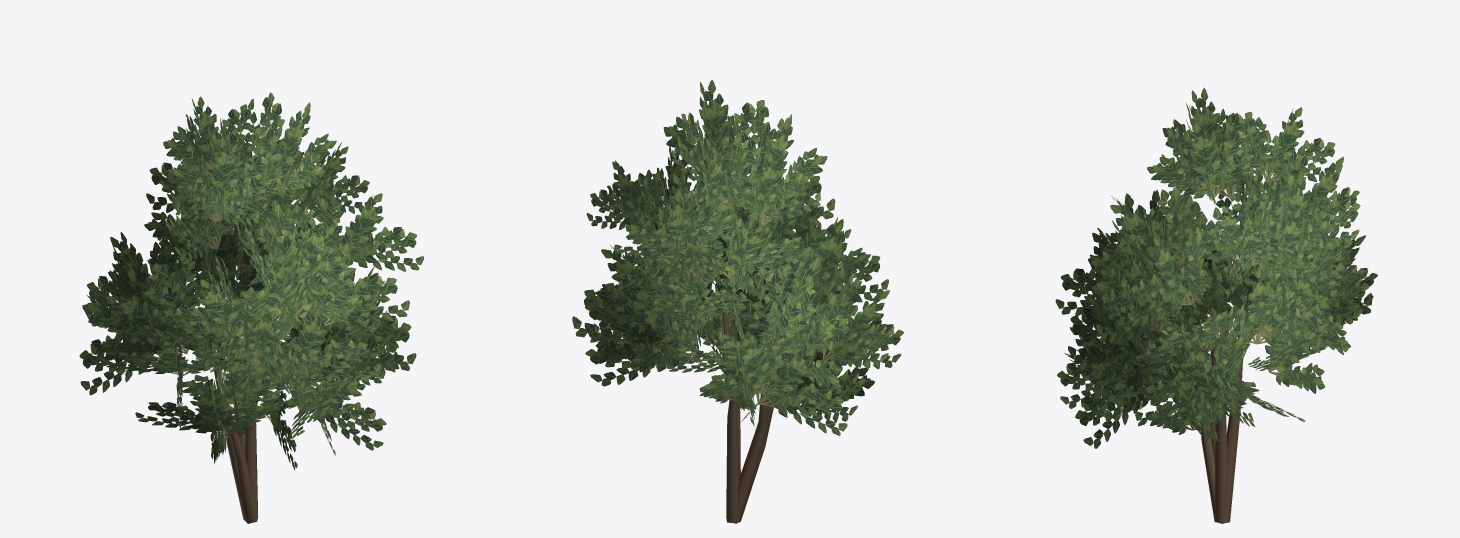
File: SM_Bush_SmallLeaf_Tall.glb
3 renders of one model, left to right at view 1: azimuth 30°, elevation 25°; view 2: azimuth 150°, elevation 25°; view 3: azimuth 270°, elevation 25°, orthographic.
Parts seen in each view (by area): view 1: SM_Bush_SmallLeaf_Tall; view 2: SM_Bush_SmallLeaf_Tall; view 3: SM_Bush_SmallLeaf_Tall.
Boxes of the visible parts, x1,y1,x2,y2 form: SM_Bush_SmallLeaf_Tall: (79,92,423,523); SM_Bush_SmallLeaf_Tall: (572,80,903,523); SM_Bush_SmallLeaf_Tall: (1055,87,1377,523).
Bounding box in the file's own units: 2.05 × 2.33 × 1.95.
2 materials, 1 textured.
